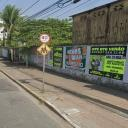speed_limit_40: (38, 32, 50, 42)
